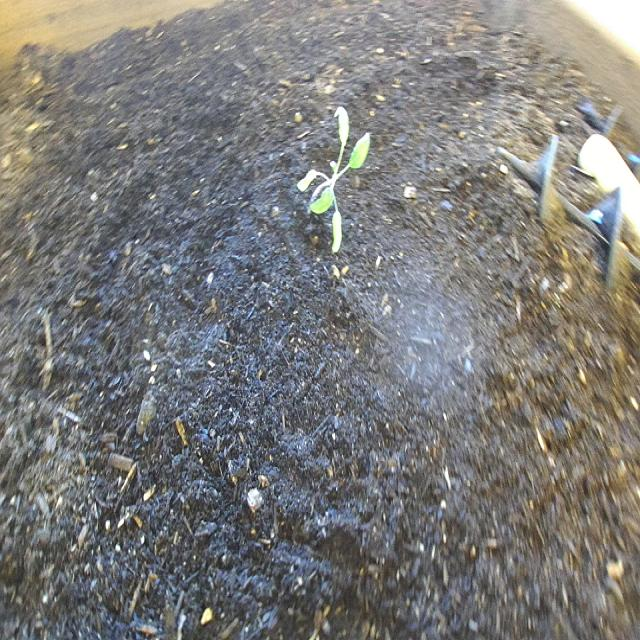Healthy: (291, 92, 377, 268)
